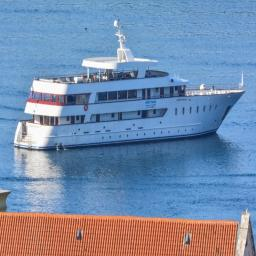cruises: (14, 18, 248, 155)
